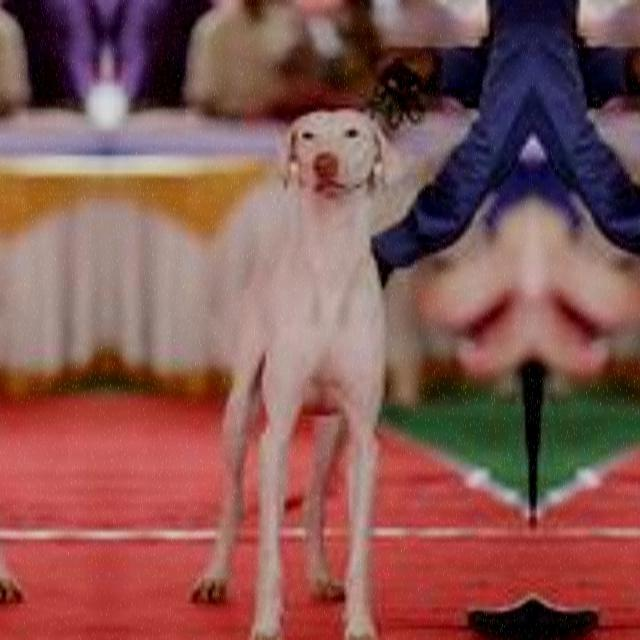dog: (154, 85, 446, 640), (0, 85, 61, 640), (622, 85, 640, 640)
